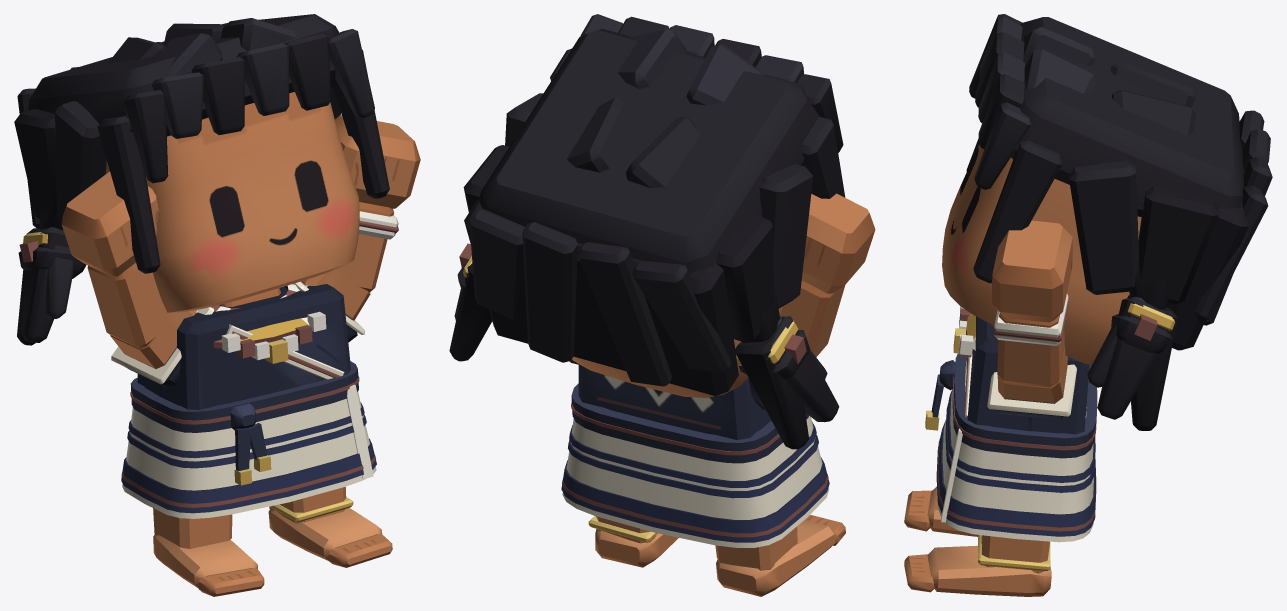
File: audience_v2_girl_cheer.glb
3 views of the same model, side by side, from view 1: azimuth 30°, elevation 25°; view 2: azimuth 150°, elevation 25°; view 3: azimuth 270°, elevation 25° (orthographic). The views are drawn at different scales.
Visible parts, largest first — view 1: audience_v2_girl_cheer; view 2: audience_v2_girl_cheer; view 3: audience_v2_girl_cheer.
Part boxes in pixels (box(x1,y1,x2,y2)): audience_v2_girl_cheer: box(14, 14, 420, 596); audience_v2_girl_cheer: box(449, 14, 875, 596); audience_v2_girl_cheer: box(904, 14, 1272, 596).
Bounding box in the file's own units: 0.5407 × 0.7492 × 0.4823.
1 material, 1 textured.
